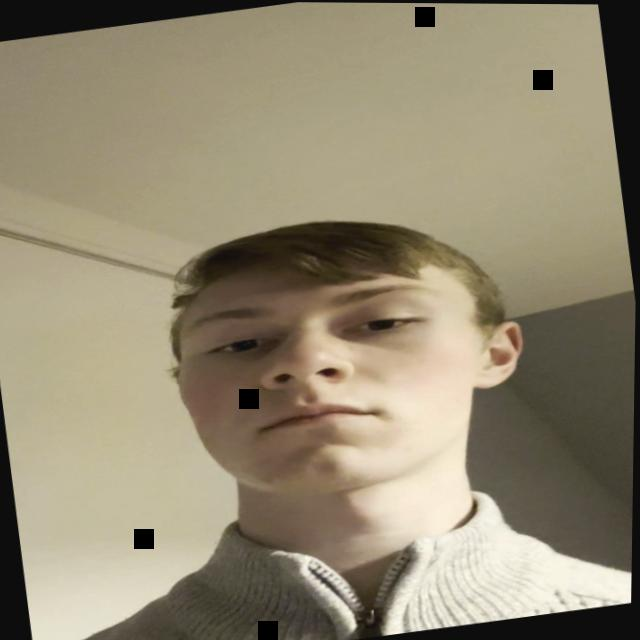NO-Mask: (159, 242, 533, 583)
